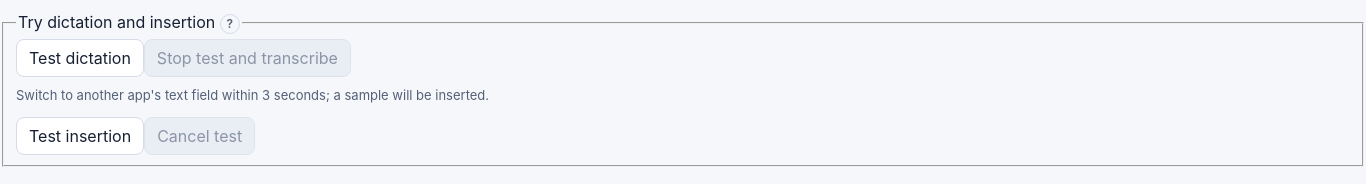
Scenario: saves setup choices before claiming a test and blocks a second claim before its state event
Click the button "Test dictation".
click(80, 58)  # box left=16, top=39, right=144, bottom=77
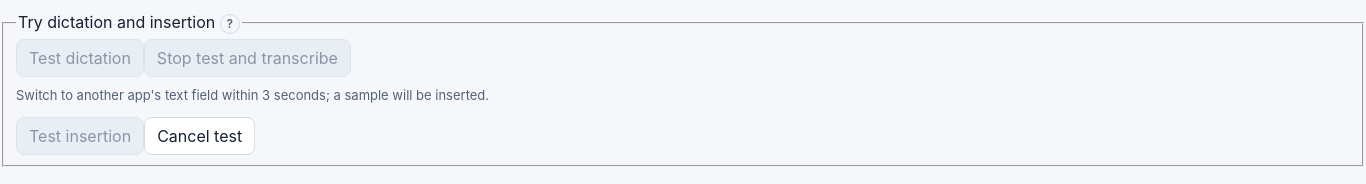
Result: the button "Test insertion" is disabled at left=16, top=117, right=144, bottom=155
Result: the button "Cancel test" is enabled at left=144, top=117, right=255, bottom=155
